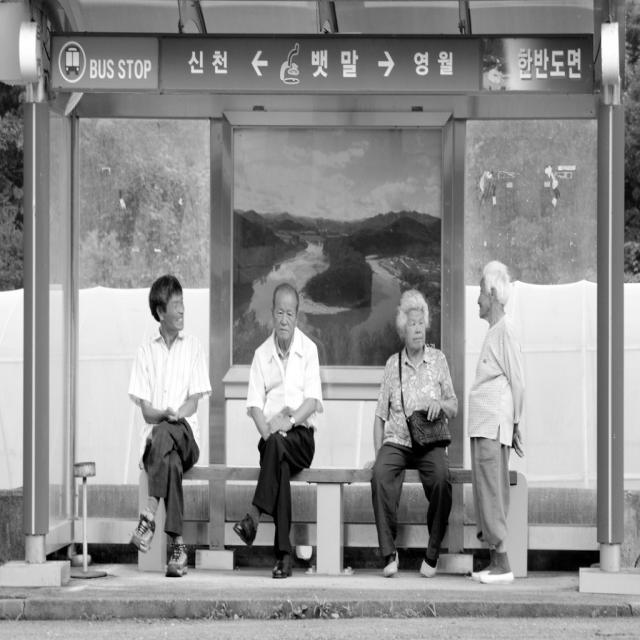person: (115, 246, 212, 572), (255, 262, 316, 572), (383, 281, 446, 570), (466, 239, 516, 582)
